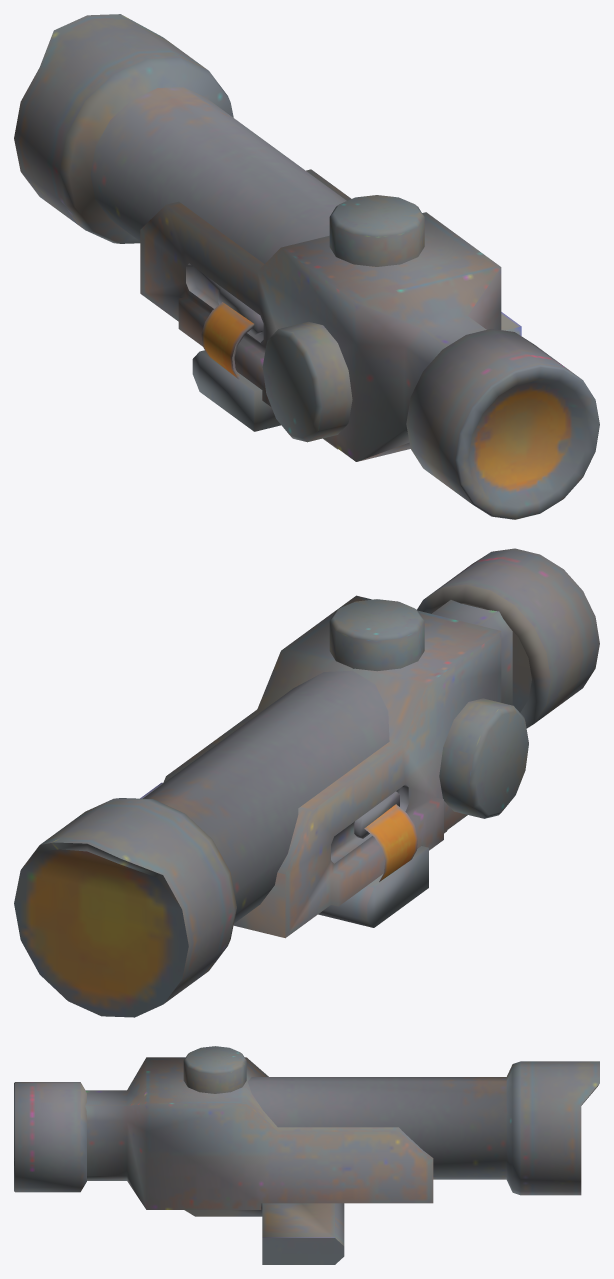
The model's file is sight2.obj.
3 views of the same model, one above another, from view 1: azimuth 30°, elevation 25°; view 2: azimuth 150°, elevation 25°; view 3: azimuth 270°, elevation 25° (orthographic). The views are drawn at different scales.
Visible parts, largest first — view 1: sight2; view 2: sight2; view 3: sight2.
Boxes of the visible parts, box(x1,y1,x2,y2) form: sight2: box(14, 14, 599, 519); sight2: box(14, 548, 599, 1017); sight2: box(14, 1046, 599, 1264).
Bounding box in the file's own units: 10.2 × 7.6 × 27.22.
